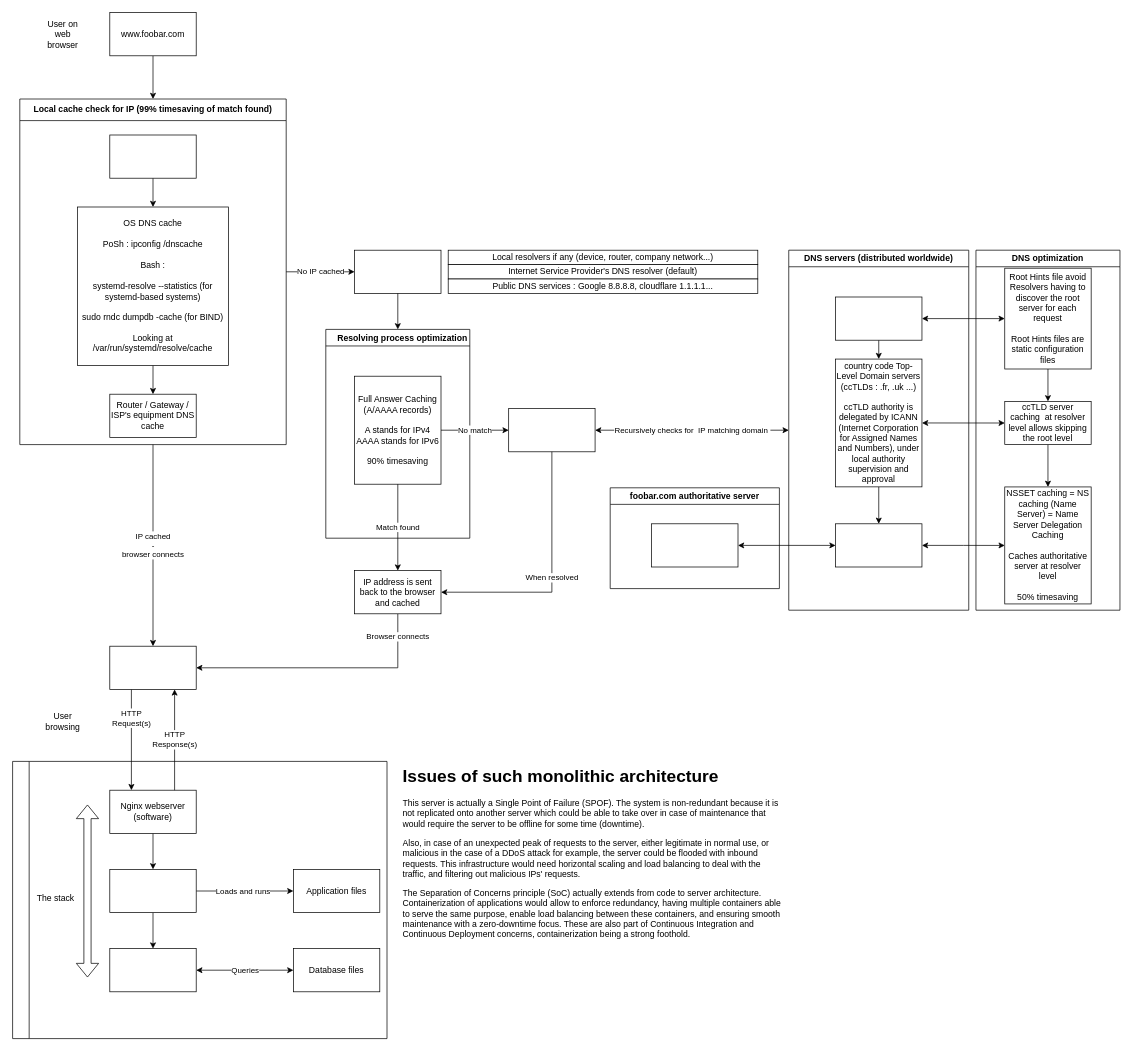
Image size: 1133x1051. Some labels were removed from this diagram. The shapes that lost their labels are listed below. From the top down, each one's box as (x1, y1, x2, y2) in pixels, then its label:
(109, 134, 196, 178): Browser DNS cache
(354, 249, 441, 293): IP Resolvers
(835, 296, 922, 340): DNS root servers ( .com )
(508, 408, 595, 452): Resolver finds the appropriate IP address(es)
(651, 523, 738, 567): Type "A" DNS record : foobar.com points to 8.8.8.8
(835, 523, 922, 567): Authoritative servers (Registered ownership)
(109, 645, 196, 689): TCP Connection - 3-way handshake
(109, 869, 196, 913): Application server
(12, 761, 387, 1039): Server (machine) : "all-in-one", monolithic architecture
(109, 948, 196, 992): MySQL (DBMS software)
